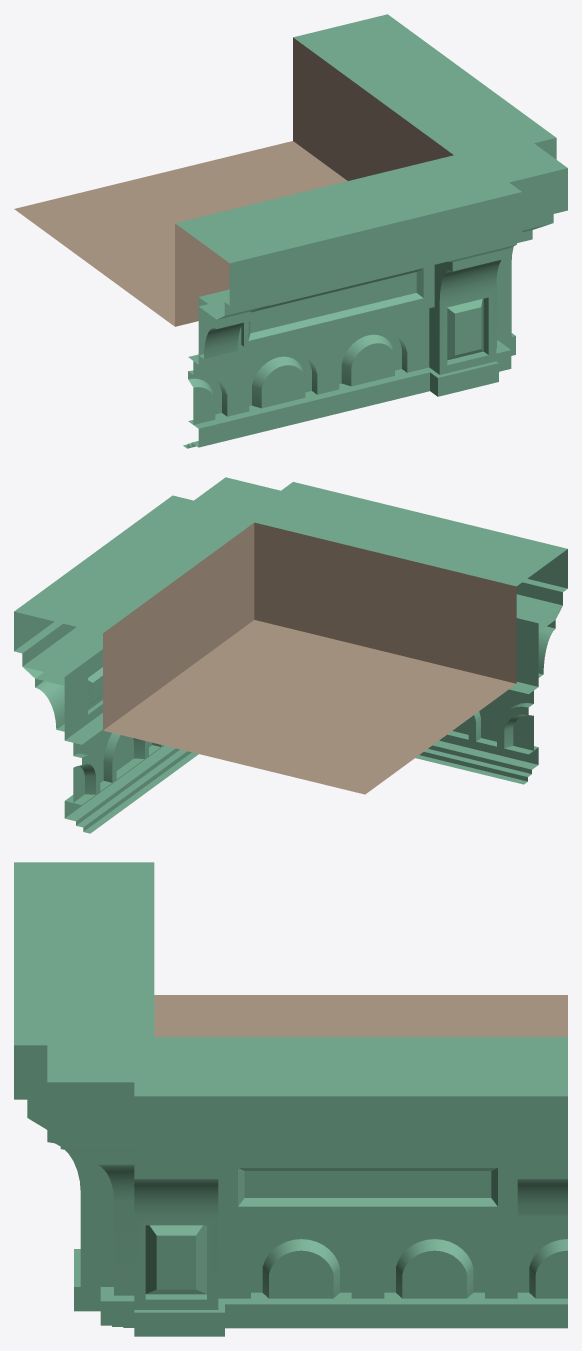
File: object_B1_Roof_corner.glb
The picture shows the model from 3 angles, top to bottom: view 1: azimuth 30°, elevation 25°; view 2: azimuth 150°, elevation 25°; view 3: azimuth 270°, elevation 25°; orthographic projection. The views are drawn at different scales.
Parts seen in each view (by area): view 1: B1 Roof corner; view 2: B1 Roof corner; view 3: B1 Roof corner.
Boxes of the visible parts, box(x1,y1,x2,y2) form: B1 Roof corner: box(14, 14, 567, 448); B1 Roof corner: box(14, 477, 567, 833); B1 Roof corner: box(14, 862, 567, 1336).
Bounding box in the file's own units: 4.15 × 2.3 × 4.15.
